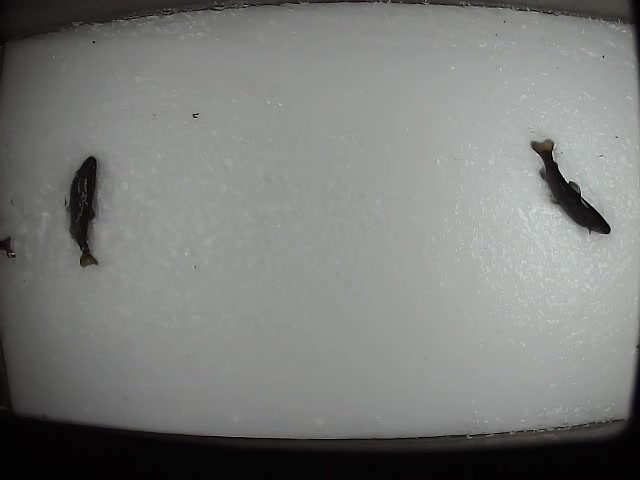fish: (526, 136, 613, 238), (63, 154, 102, 269)
